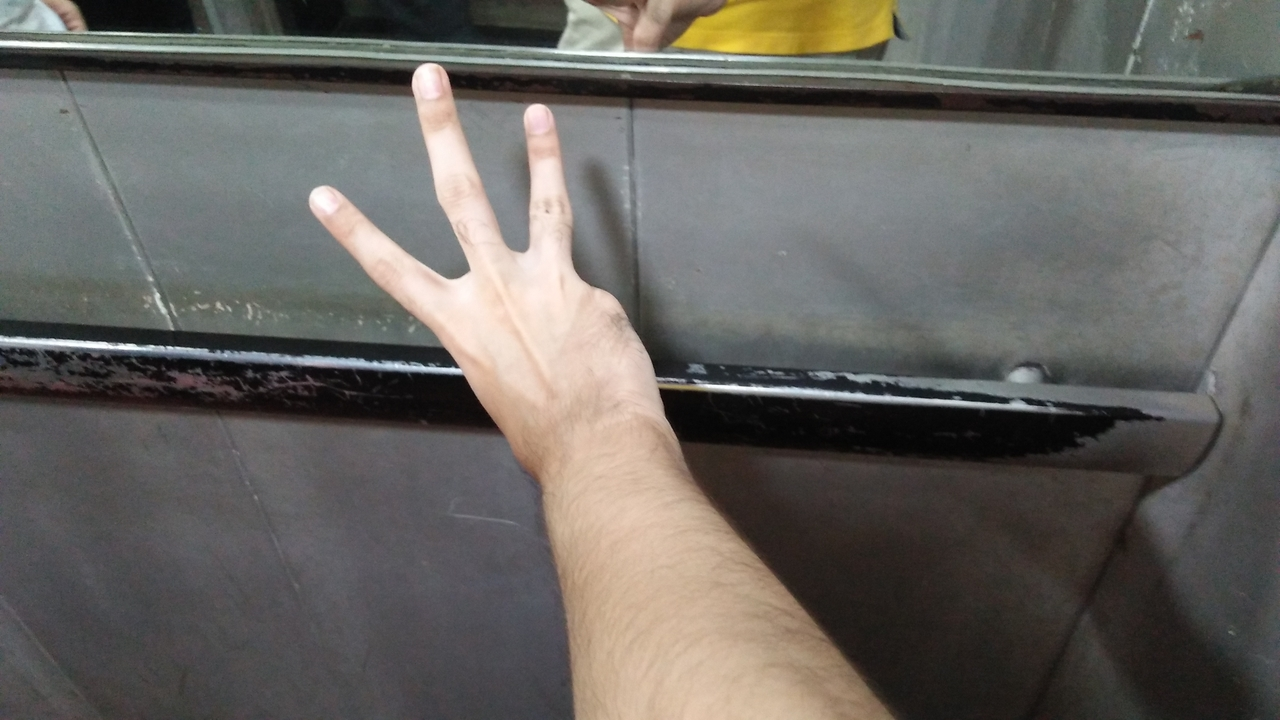fingertip: (296, 170, 360, 228), (398, 52, 460, 106), (510, 92, 566, 138)
